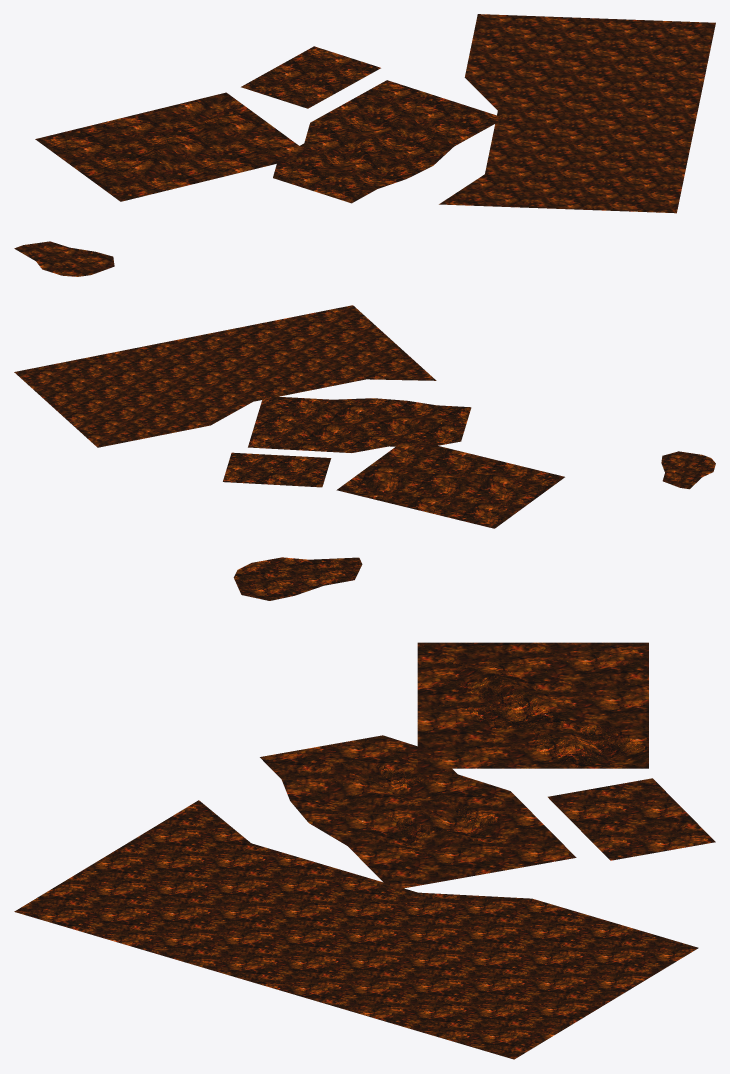
The model's file is water.fbx.
3 renders of one model, top to bottom at view 1: azimuth 30°, elevation 25°; view 2: azimuth 150°, elevation 25°; view 3: azimuth 270°, elevation 25°, orthographic. The views are drawn at different scales.
Visible parts, largest first — view 1: water; view 2: water; view 3: water.
Part boxes in pixels (box(x1,y1,x2,y2)): water: box(14, 14, 715, 276); water: box(14, 305, 715, 528); water: box(14, 557, 715, 1059).
Size of the model in its own units: 63467 by 1186 by 37646.
